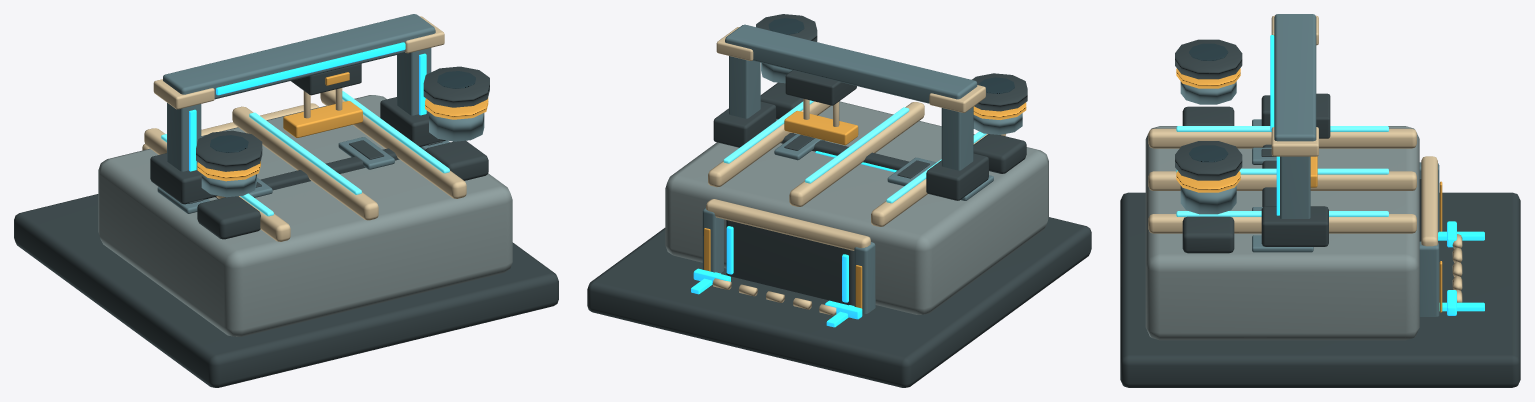
Rendered from factory.glb.
3 renders of one model, left to right at view 1: azimuth 30°, elevation 25°; view 2: azimuth 150°, elevation 25°; view 3: azimuth 270°, elevation 25°, orthographic. The views are drawn at different scales.
Visible parts, largest first — view 1: Assembly hall, Factory foundation, Portal armored jamb, Roof spine, Stack warning collar, Front hazard plate, Cooling drum.001, Exhaust opening, Overhead gantry, Roof skylight.001, Roof skylight.002, Cooling drum; view 2: Factory foundation, Assembly hall, Portal armored jamb, Roof spine, Stack warning collar, Front hazard plate, Exhaust opening, Roof skylight.001, Overhead gantry, Cooling drum, Roof skylight.002, Roof skylight; view 3: Factory foundation, Assembly hall, Roof spine, Portal armored jamb, Stack warning collar, Front hazard plate, Cooling drum.001, Exhaust opening, Roof skylight, Cooling drum, Roof skylight.002, Roof skylight.001 (+1 smaller).
Part boxes in pixels (box(x1,y1,x2,y2)): Assembly hall: box(98, 95, 512, 336); Factory foundation: box(14, 63, 558, 387); Portal armored jamb: box(157, 14, 450, 213); Roof spine: box(142, 16, 466, 241); Stack warning collar: box(197, 72, 488, 181); Front hazard plate: box(189, 42, 426, 171); Cooling drum.001: box(429, 112, 484, 141); Exhaust opening: box(210, 71, 475, 152); Overhead gantry: box(215, 148, 399, 198); Roof skylight.001: box(249, 112, 361, 194); Roof skylight.002: box(342, 91, 449, 173); Cooling drum: box(201, 174, 256, 197); Factory foundation: box(587, 14, 1091, 387); Assembly hall: box(665, 101, 1048, 314); Portal armored jamb: box(702, 24, 993, 313); Roof spine: box(706, 27, 1005, 315); Stack warning collar: box(704, 102, 1026, 308); Front hazard plate: box(691, 268, 862, 327); Exhaust opening: box(768, 18, 1014, 93); Roof skylight.001: box(805, 107, 909, 183); Overhead gantry: box(781, 133, 909, 170); Cooling drum: box(973, 113, 1022, 134); Roof skylight.002: box(723, 100, 813, 163); Roof skylight: box(886, 131, 986, 203); Factory foundation: box(1120, 39, 1520, 387); Assembly hall: box(1145, 126, 1419, 340); Roof spine: box(1148, 15, 1462, 302); Portal armored jamb: box(1252, 14, 1439, 316); Stack warning collar: box(1176, 68, 1442, 312); Front hazard plate: box(1270, 35, 1484, 315); Cooling drum.001: box(1180, 185, 1236, 214); Exhaust opening: box(1189, 43, 1228, 162); Roof skylight: box(1176, 126, 1388, 131); Cooling drum: box(1180, 81, 1236, 104); Roof skylight.002: box(1176, 211, 1388, 216); Roof skylight.001: box(1176, 168, 1388, 174).
Bounding box in the file's own units: 2.86 × 1.84 × 2.86.
